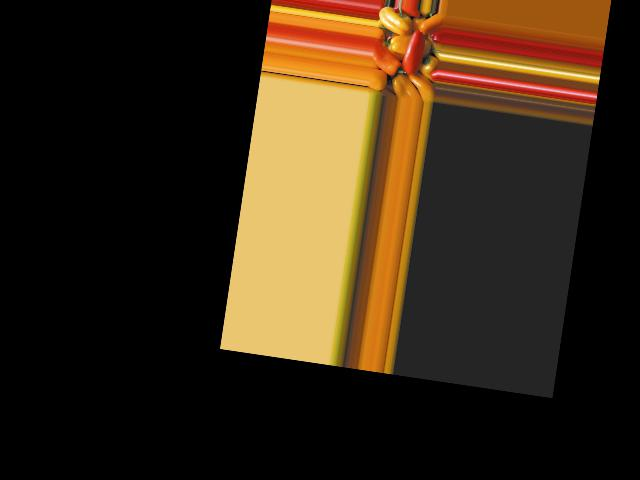bell_pepper: (377, 5, 411, 37)
